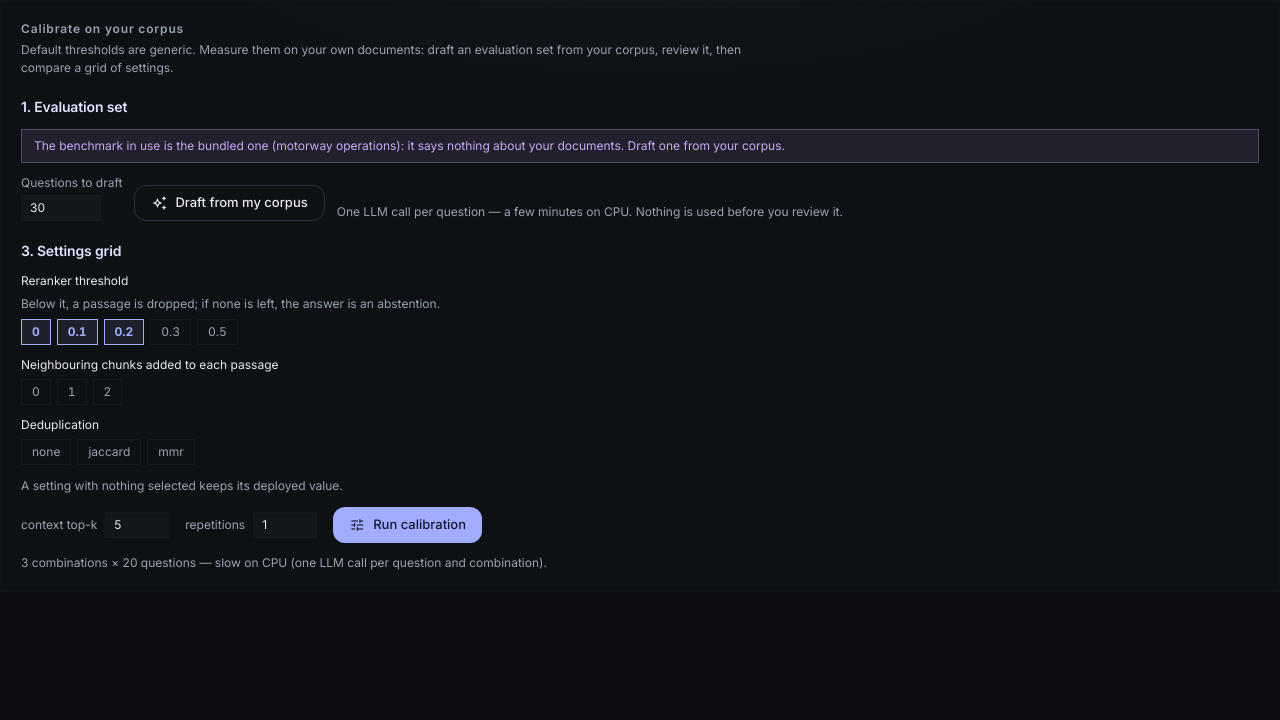
CalibrationWizard › reports a failed draft and an empty one without locking the screen
Click the button "Draft from my corpus": (230, 203) [134,185,325,221]
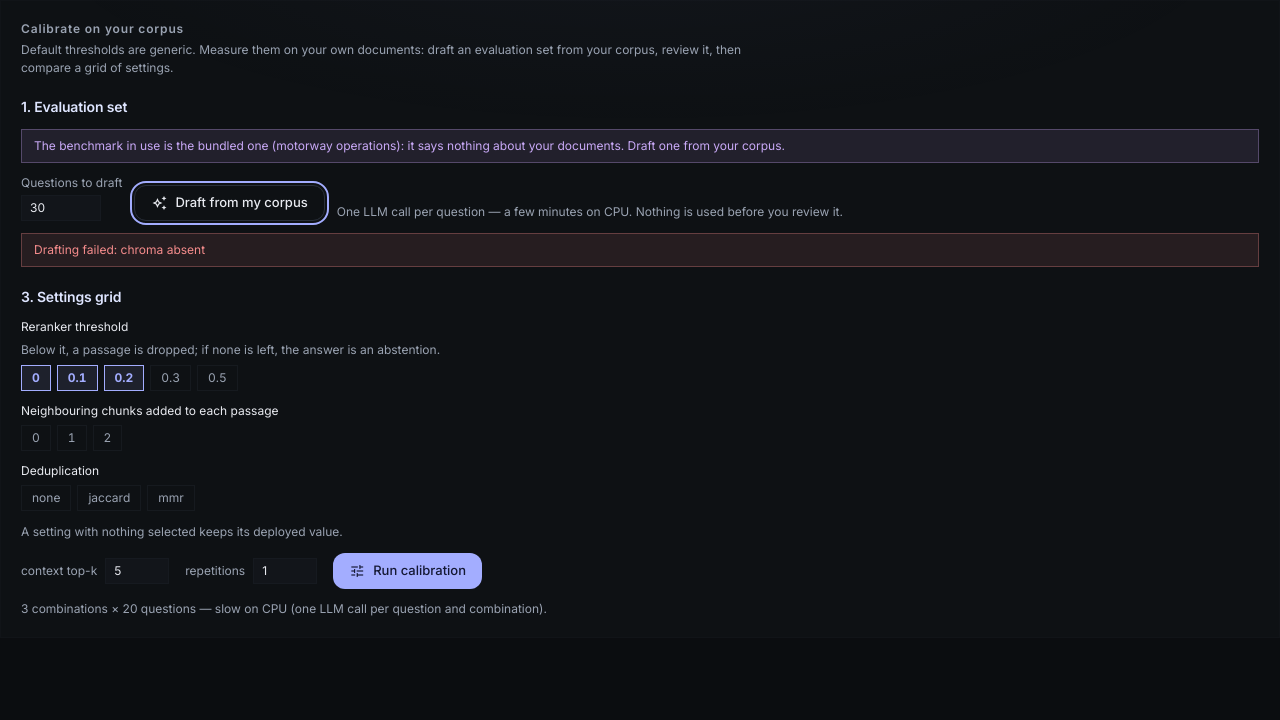
Expected: the button "Run calibration" is enabled, [333,553,482,589]
Expected: the text "Drafting failed: chroma absent" is shown, [21,233,1259,267]
